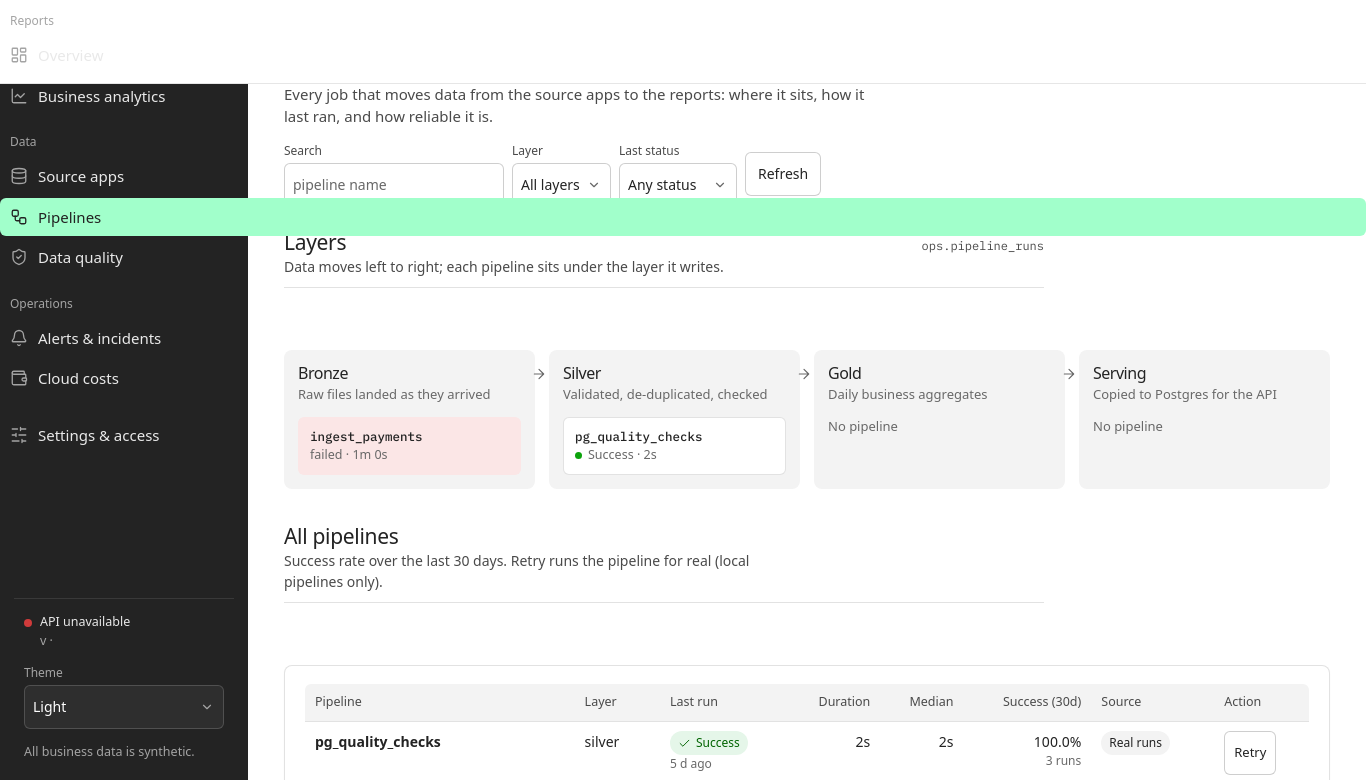
it: Pipelines page › shows the server's reason when a retry is refused
Click the button "Retry": (1250, 753) [1224,731,1276,775]
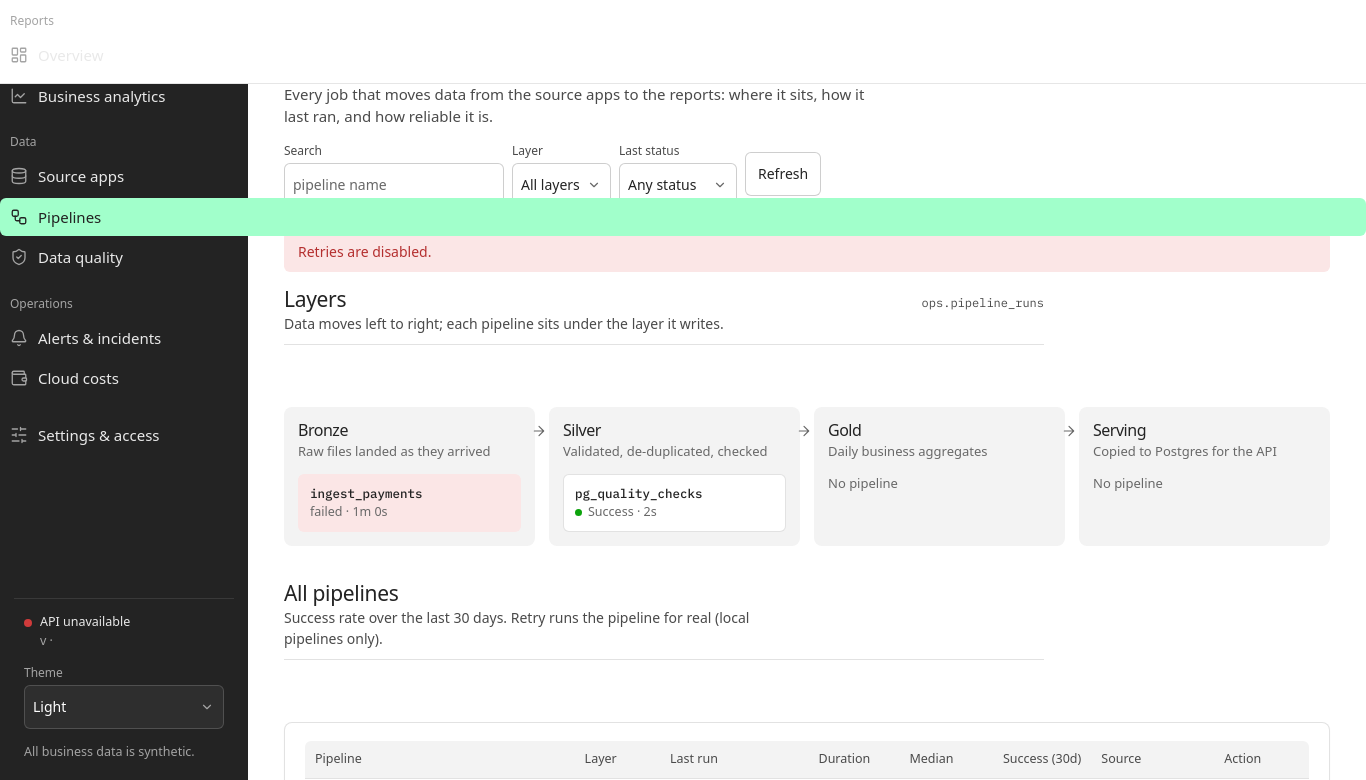
expect the text "Retries are disabled." is shown: met, box [284,231,1330,272]
